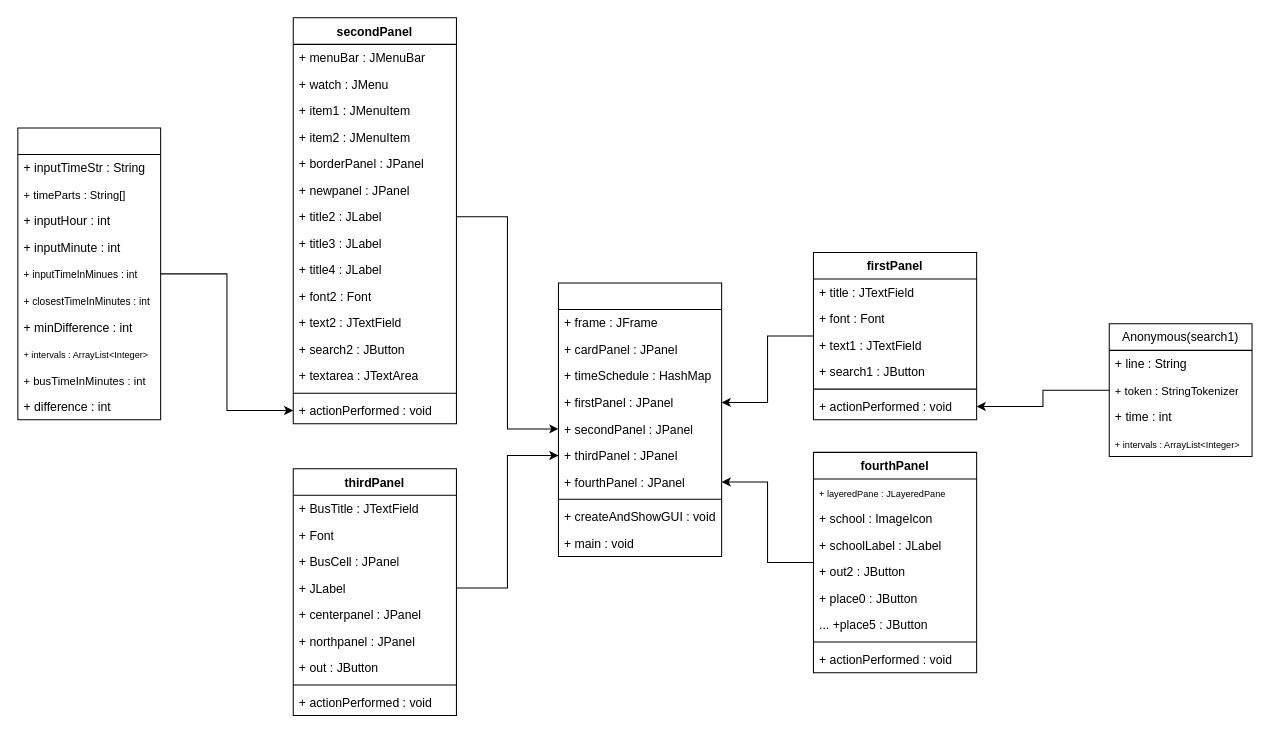
The diagram is 1270 pixels wide and 736 high, and some of its shapes have lost their labels. Each missing label, with the box of its shape:
Anonymous(search2): (17, 127, 161, 420)
Final_Bus_App: (557, 282, 722, 556)
